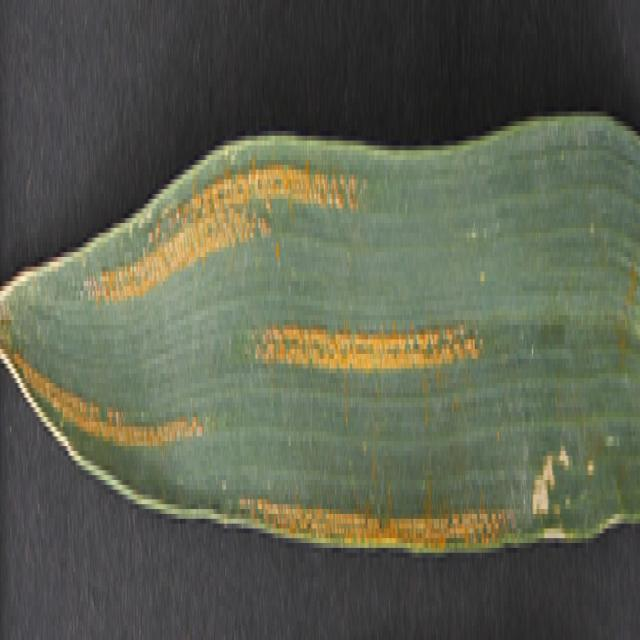leaf rust: (7, 140, 516, 552)
